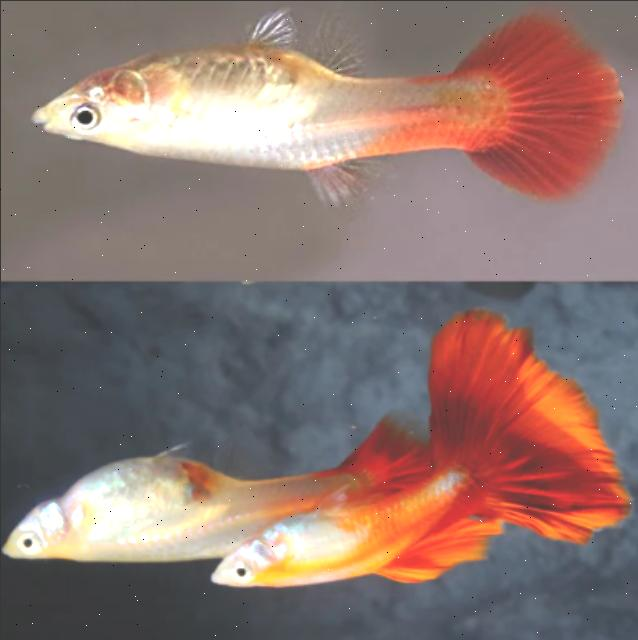Mulut: (15, 79, 85, 159), (198, 555, 238, 595)
Sirip Anal: (306, 0, 376, 108)
Sirip Ekor: (424, 292, 638, 552), (417, 0, 631, 220)
Sirip Perut: (235, 0, 305, 56)
Sirip Punggung: (376, 501, 514, 592), (282, 139, 404, 227)
